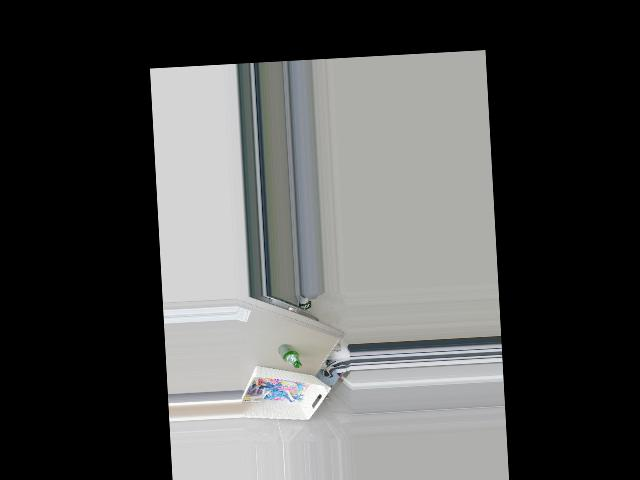beer: (278, 342, 302, 368)
